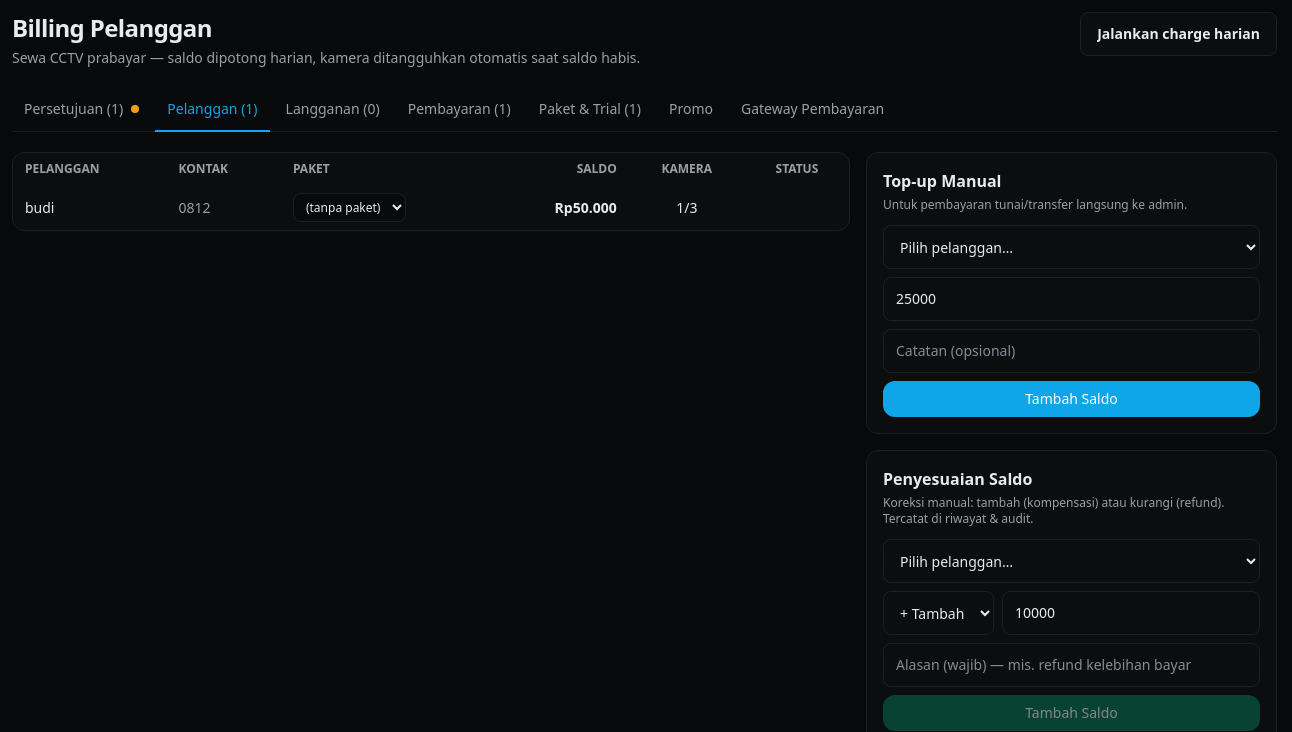
Test case: BillingManagement (responsive shell) › switches to the Persetujuan tab and shows approve/reject for the pending registrant
Step 1. Click the tab "Persetujuan (1)" → (82, 110), box [12,88,151,132]
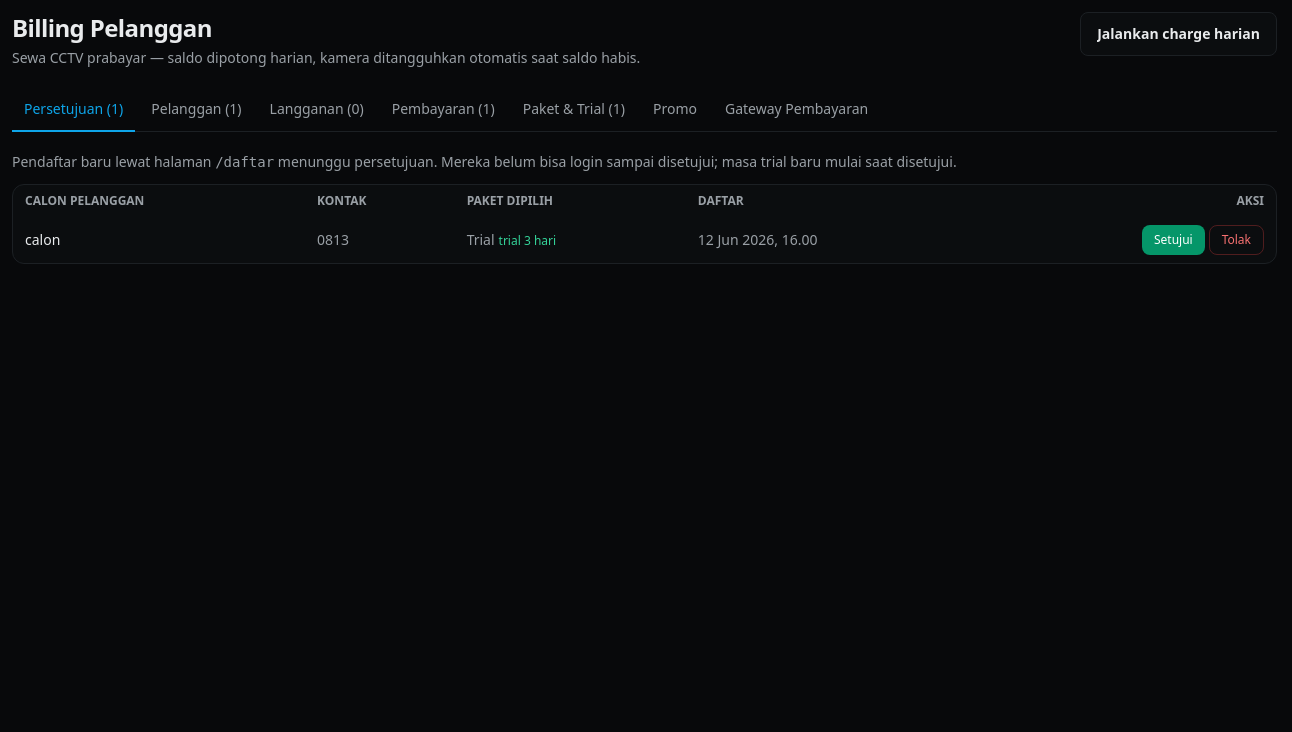
expect the text "calon" is shown 2 times: met
